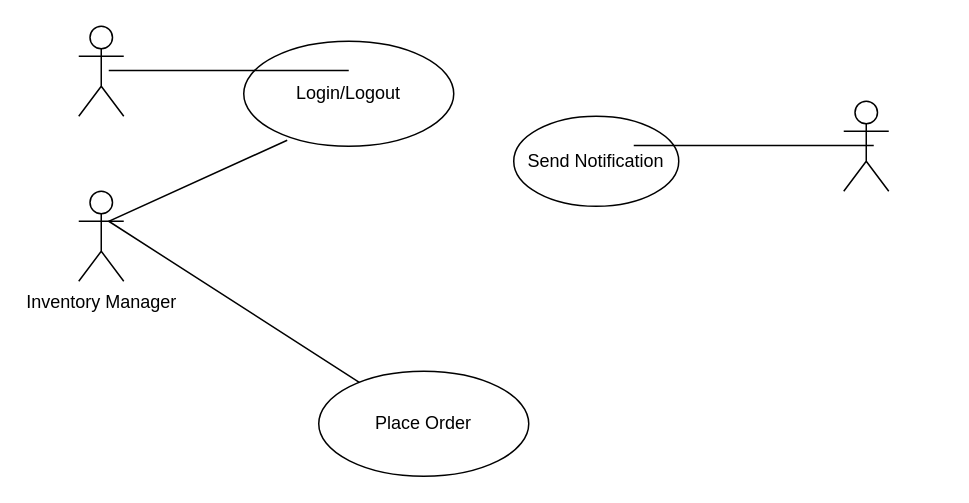
Image size: 969x503. Some labels were removed from this diagram. The shapes that lost their labels are listed below. From the top down, each one's centre as x and y in pixels, then its label:
point 100,70: Admin
point 865,145: Notification Service
